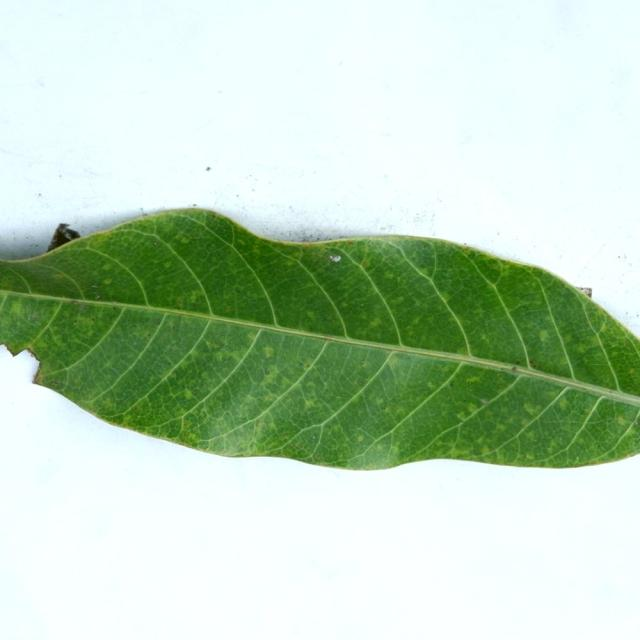Mango: (0, 209, 639, 468)
Powdery_Mildew: (556, 401, 631, 456), (328, 430, 403, 469), (62, 296, 101, 323), (455, 401, 484, 422), (254, 342, 280, 364), (536, 324, 552, 346), (7, 299, 28, 315), (262, 369, 279, 383), (523, 403, 540, 416), (449, 447, 468, 458), (204, 339, 221, 350), (187, 292, 202, 304), (282, 258, 299, 268), (179, 417, 188, 435), (455, 347, 471, 357), (557, 397, 569, 410), (327, 425, 340, 437), (182, 419, 194, 431), (305, 399, 318, 410), (368, 318, 381, 328), (576, 344, 588, 354), (467, 403, 479, 413), (466, 376, 481, 384), (456, 411, 468, 421), (213, 352, 226, 361), (264, 392, 277, 401), (599, 322, 608, 335), (183, 389, 194, 399), (481, 446, 492, 456), (256, 420, 266, 431), (167, 372, 178, 382), (419, 267, 431, 276), (175, 297, 185, 307), (361, 258, 371, 268), (616, 416, 627, 425), (496, 423, 507, 432), (233, 286, 245, 294), (375, 397, 385, 406), (268, 421, 277, 431), (103, 398, 113, 407), (178, 236, 189, 244), (306, 311, 316, 319), (427, 381, 437, 389), (356, 434, 365, 442), (526, 452, 535, 460), (164, 262, 173, 270), (376, 443, 385, 451), (247, 334, 256, 342), (102, 278, 112, 285), (529, 360, 539, 367), (29, 313, 39, 319), (295, 442, 303, 449), (463, 245, 471, 252), (480, 398, 488, 405), (99, 229, 108, 235), (628, 368, 635, 375), (79, 304, 86, 310), (511, 366, 518, 372), (238, 451, 246, 456), (305, 362, 311, 368), (583, 408, 589, 414), (156, 319, 162, 325), (70, 300, 77, 305), (514, 360, 521, 365), (94, 294, 100, 299), (449, 382, 454, 388), (51, 382, 57, 387), (360, 360, 365, 365), (153, 241, 158, 246), (142, 212, 147, 217), (347, 240, 353, 244), (637, 418, 640, 425), (112, 305, 116, 310), (211, 214, 216, 218)
